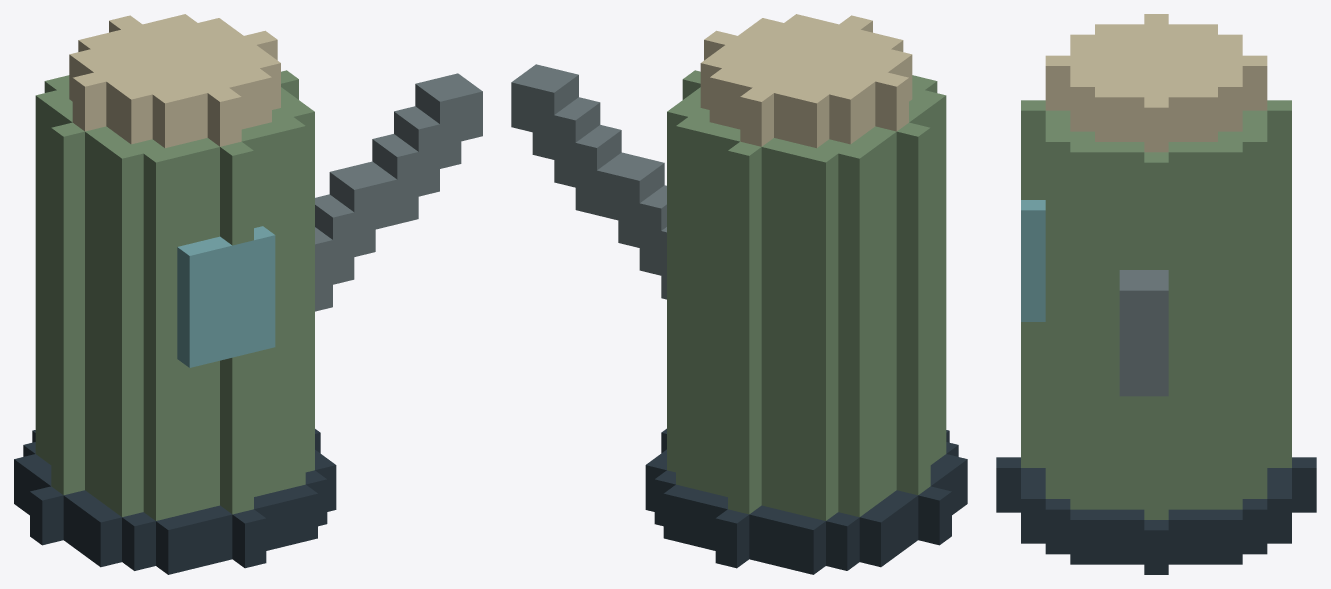
Rendered from climate-20.glb.
3 renders of one model, left to right at view 1: azimuth 30°, elevation 25°; view 2: azimuth 150°, elevation 25°; view 3: azimuth 270°, elevation 25°, orthographic.
Parts seen in each view (by area): view 1: Clean water pump; view 2: Clean water pump; view 3: Clean water pump.
Boxes of the visible parts, x1,y1,x2,y2 form: Clean water pump: (14, 14, 482, 574); Clean water pump: (511, 14, 967, 574); Clean water pump: (996, 14, 1316, 574).
Bounding box in the file's own units: 1.6 × 1.6 × 1.04.
